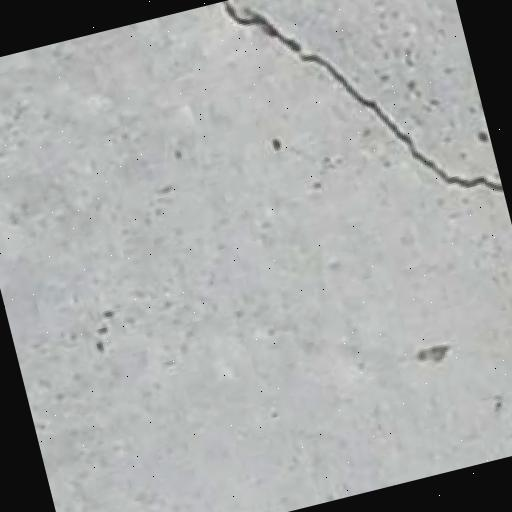spalling: (210, 0, 499, 200)
